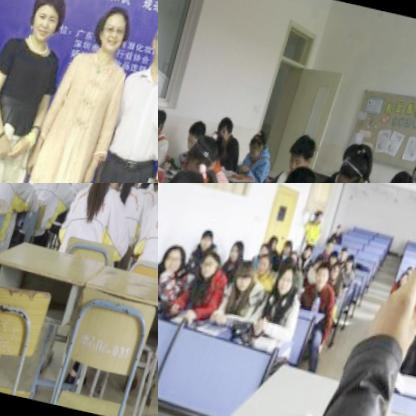head: (335, 139, 380, 183), (283, 127, 324, 173), (93, 3, 133, 50), (24, 0, 70, 40), (185, 132, 226, 174), (158, 163, 224, 183), (275, 159, 327, 183), (182, 114, 213, 149), (160, 239, 191, 274), (232, 255, 261, 291), (275, 261, 303, 297), (197, 246, 226, 276), (246, 125, 271, 158), (215, 110, 239, 141), (312, 258, 337, 287), (385, 163, 416, 183), (227, 233, 247, 259), (158, 100, 172, 136), (197, 225, 218, 247), (148, 14, 158, 59), (328, 257, 346, 279), (257, 250, 274, 272), (287, 245, 304, 267), (281, 231, 297, 253), (258, 234, 275, 254), (312, 250, 328, 270), (399, 264, 413, 284), (266, 231, 281, 249), (324, 233, 338, 252), (346, 249, 358, 267), (302, 239, 315, 255), (339, 240, 352, 255), (330, 247, 342, 262), (315, 203, 326, 218), (335, 218, 346, 231), (406, 260, 416, 271)
